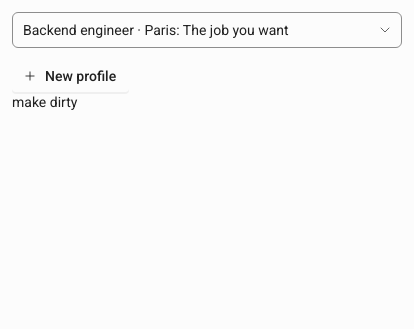
Test case: PreferencesNav › a selected profile without a resume has no duplicate link targets
The width and height of the screenshot is (414, 329).
Click the dropdown named "Preferences" at (207, 30), box x1=12 y1=12 x2=402 y2=48
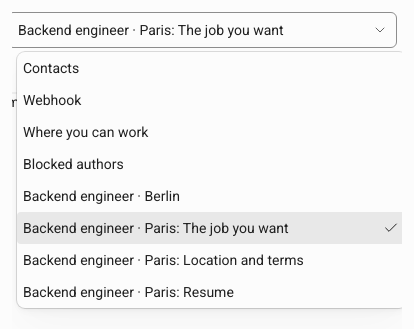
Now the text "Backend engineer · Paris: Resume" is shown, box x1=23 y1=284 x2=234 y2=300
